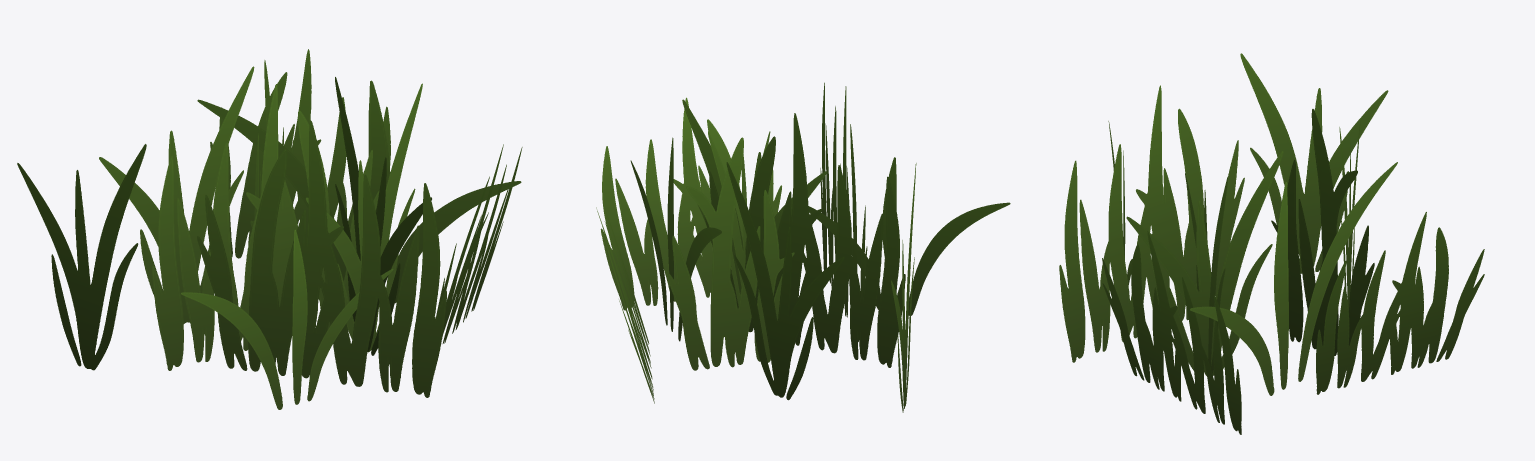
3 renders of one model, left to right at view 1: azimuth 30°, elevation 25°; view 2: azimuth 150°, elevation 25°; view 3: azimuth 270°, elevation 25°, orthographic. The views are drawn at different scales.
Visible parts, largest first — view 1: pl-grass-lush-a; view 2: pl-grass-lush-a; view 3: pl-grass-lush-a.
Boxes of the visible parts, box(x1,y1,x2,y2) form: pl-grass-lush-a: box(17, 49, 522, 409); pl-grass-lush-a: box(596, 82, 1010, 412); pl-grass-lush-a: box(1059, 53, 1484, 434).
Size of the model in its own units: 1.25 by 0.7839 by 1.23.
1 material, 1 textured.
